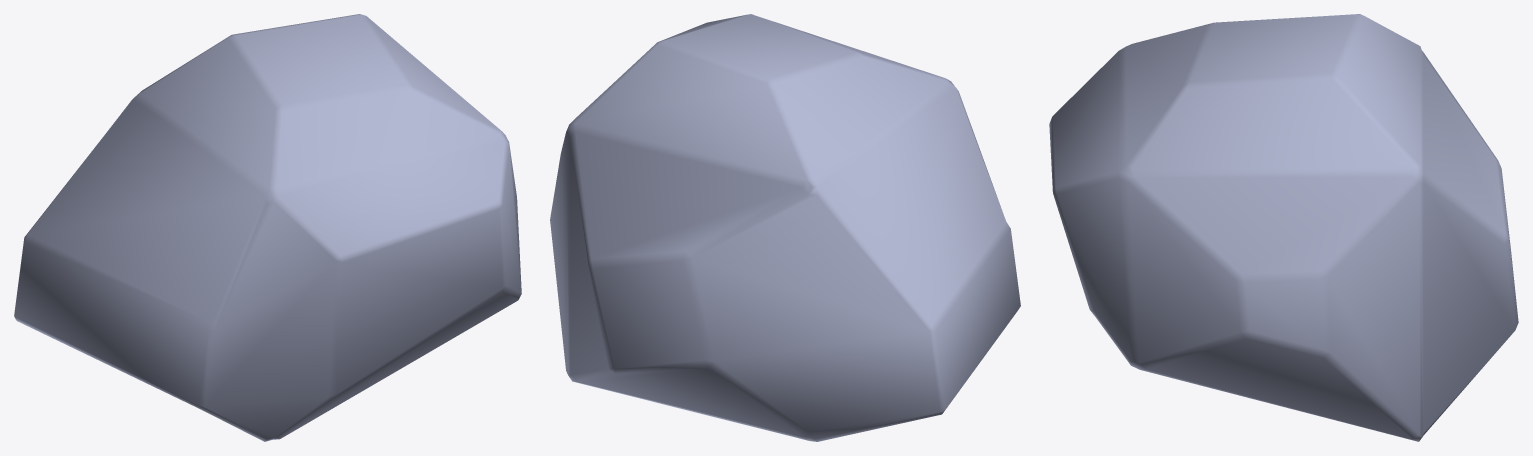
File: Rock2.fbx
The picture shows the model from 3 angles, left to right: view 1: azimuth 30°, elevation 25°; view 2: azimuth 150°, elevation 25°; view 3: azimuth 270°, elevation 25°; orthographic projection. The views are drawn at different scales.
Parts seen in each view (by area): view 1: Rock2; view 2: Rock2; view 3: Rock2.
Boxes of the visible parts, x1=… form: Rock2: x1=14, y1=14, x2=521, y2=441; Rock2: x1=550, y1=14, x2=1020, y2=441; Rock2: x1=1049, y1=14, x2=1518, y2=441.
Bounding box in the file's own units: 357 × 252 × 312.
